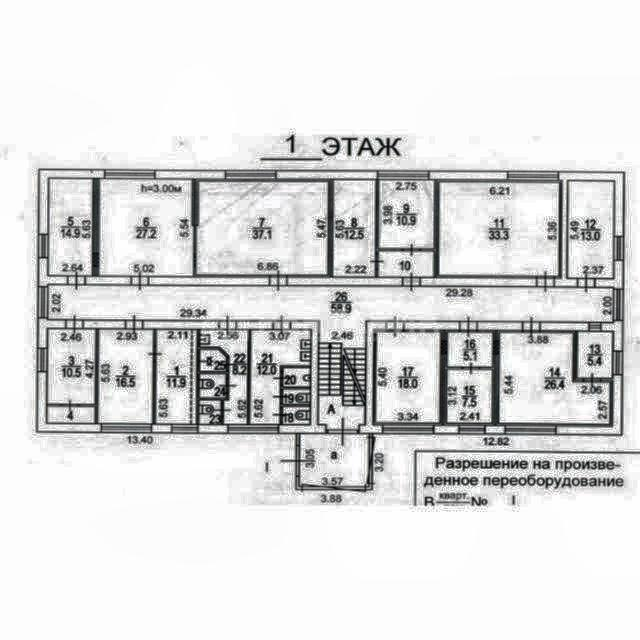room: (47, 285, 614, 432), (198, 181, 327, 275), (440, 182, 558, 275), (498, 332, 611, 425), (100, 179, 193, 276), (375, 333, 440, 423), (251, 330, 311, 425), (98, 329, 152, 423), (199, 330, 249, 425), (568, 179, 613, 278), (49, 179, 92, 275), (334, 180, 374, 277), (379, 180, 433, 248), (300, 434, 369, 487), (157, 330, 195, 423), (48, 329, 95, 404), (447, 370, 492, 423), (448, 332, 492, 367), (578, 332, 611, 378), (379, 252, 433, 276), (48, 406, 95, 423), (200, 374, 226, 398), (200, 349, 227, 372), (199, 400, 221, 425), (283, 368, 310, 387), (283, 407, 310, 424), (284, 390, 310, 403)
